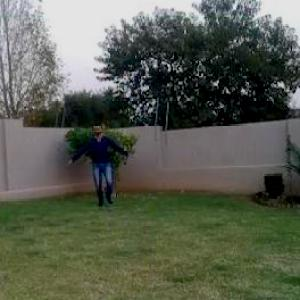land: (57, 112, 132, 212)
